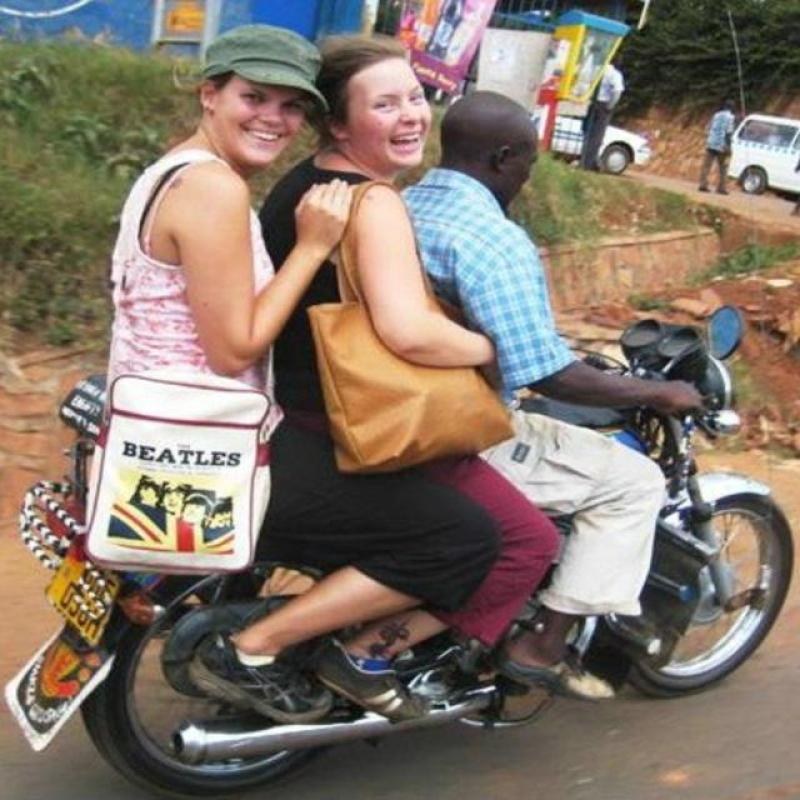nohelmet: (169, 12, 320, 178), (324, 10, 440, 169), (441, 77, 547, 211)
